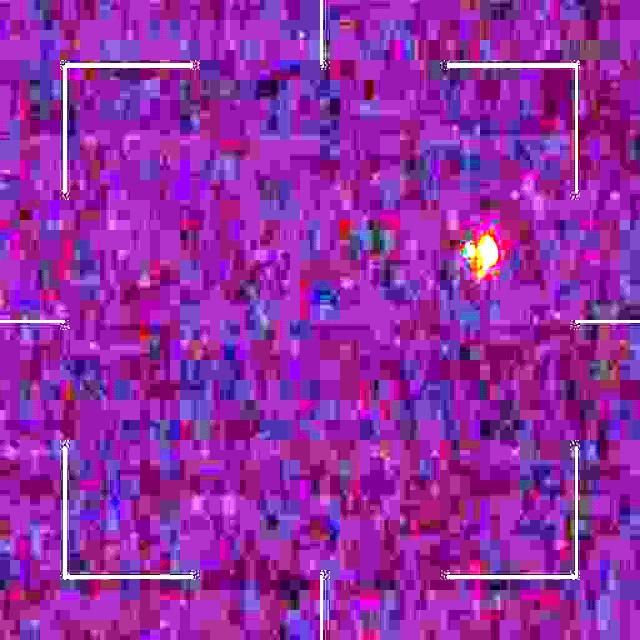bird: (465, 230, 496, 280)
